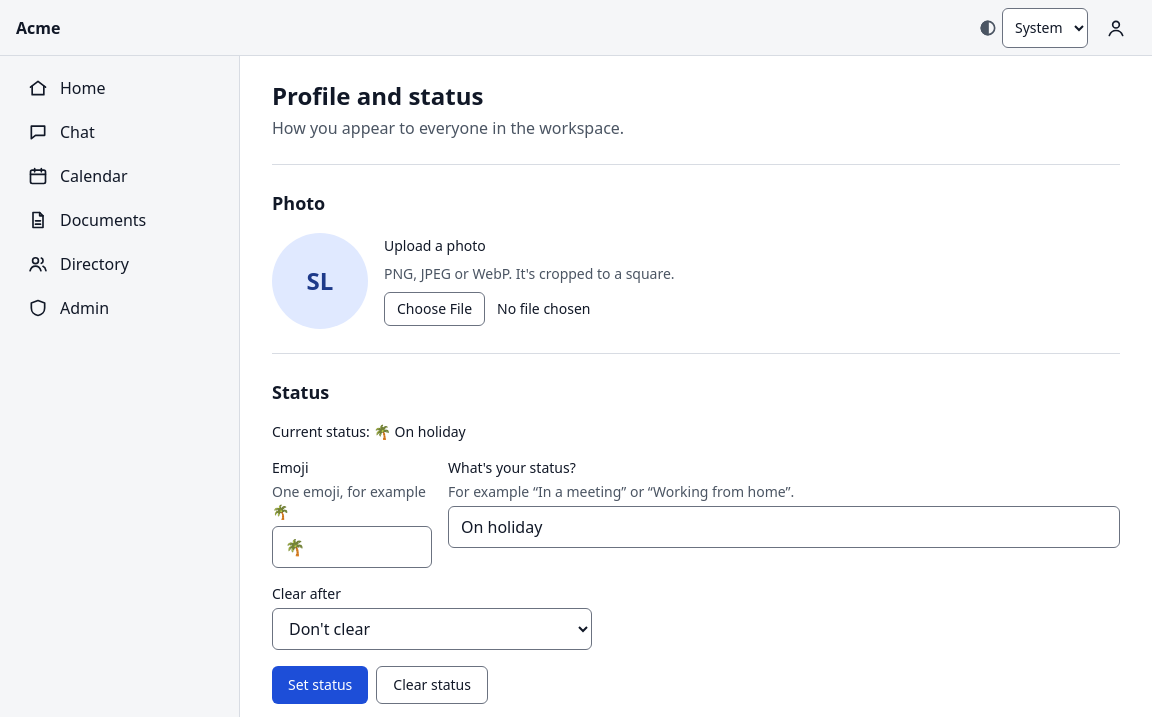
profile and status (M1d) › refuses more than one emoji in a status
Replace the text in the field labelled "Emoji" with "🌴🌴" at (352, 547), box 272,526 -> 432,568
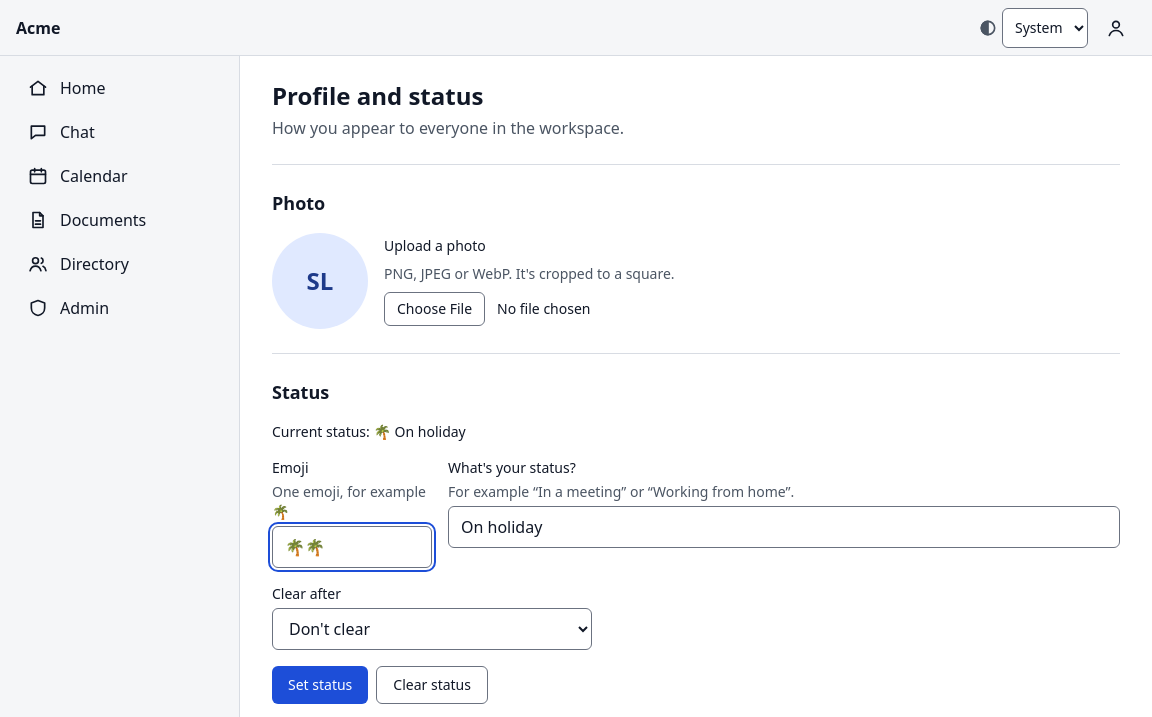
Click the button "Set status" at (320, 685), box 272,666 -> 368,704
(page scrolled)
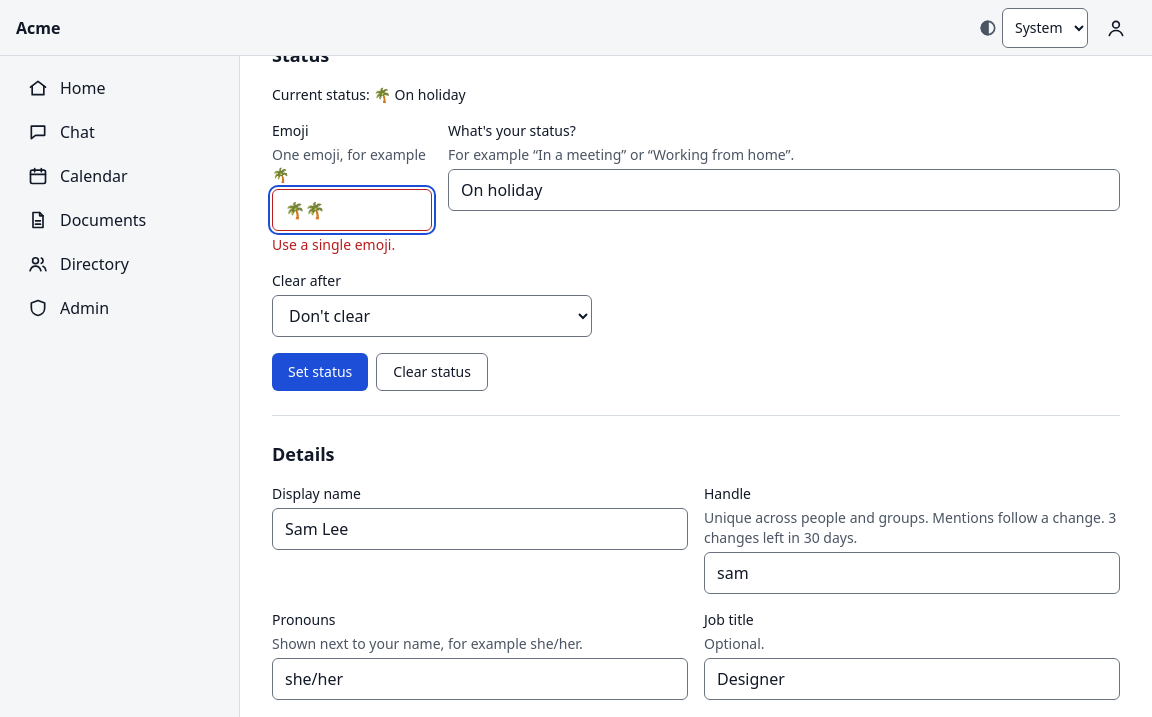
Expected: the text "Use a single emoji." is shown, 272,235 -> 395,254
